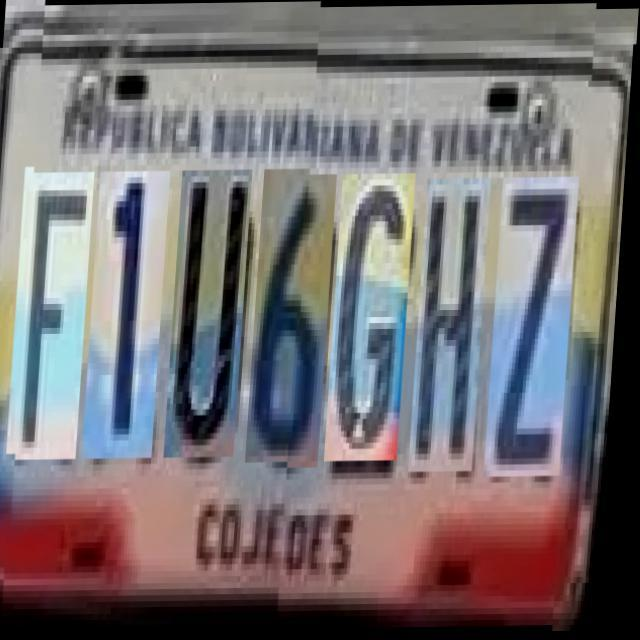1: (88, 172, 173, 460)
6: (252, 170, 340, 463)
F: (12, 172, 98, 460)
G: (331, 168, 419, 456)
H: (415, 173, 494, 468)
U: (170, 170, 255, 458)
Z: (490, 172, 582, 472)
